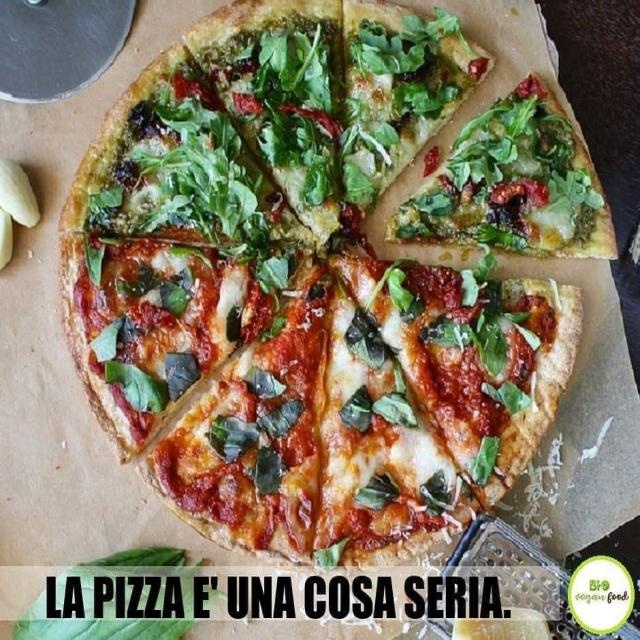basil: (102, 361, 165, 415), (206, 412, 258, 466), (341, 306, 382, 366), (479, 374, 535, 414), (372, 391, 421, 433), (162, 349, 202, 400), (338, 385, 378, 434), (257, 396, 303, 438), (499, 308, 546, 349), (468, 434, 502, 490), (354, 470, 398, 510), (250, 448, 288, 494), (240, 365, 288, 399), (312, 532, 350, 574), (90, 315, 124, 360), (418, 467, 450, 513), (480, 322, 508, 374), (155, 278, 190, 314), (407, 188, 452, 215), (387, 265, 413, 311), (83, 242, 109, 286), (257, 256, 290, 288), (417, 322, 456, 348), (460, 270, 489, 304), (390, 357, 412, 399), (454, 318, 479, 350), (401, 296, 425, 320)
pizza: (55, 0, 620, 578)
